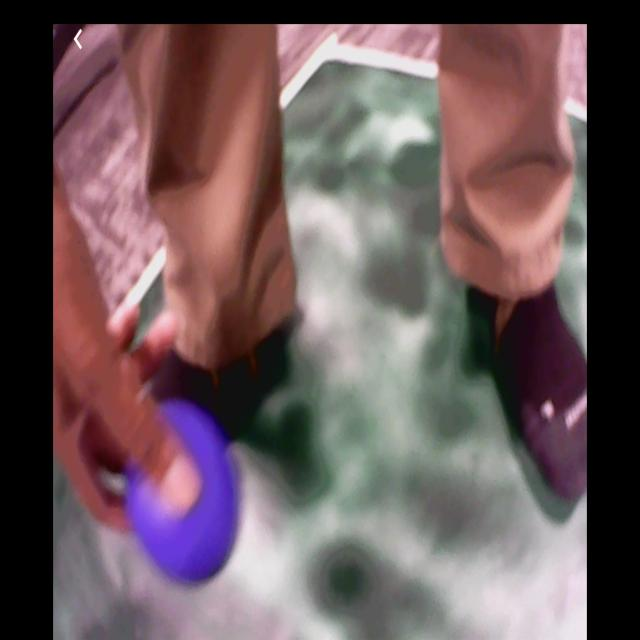ball: (129, 404, 241, 579)
